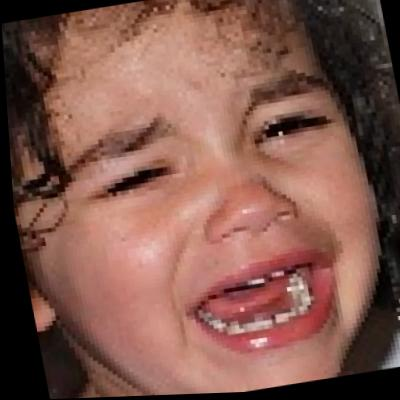sad: (23, 0, 390, 399)
